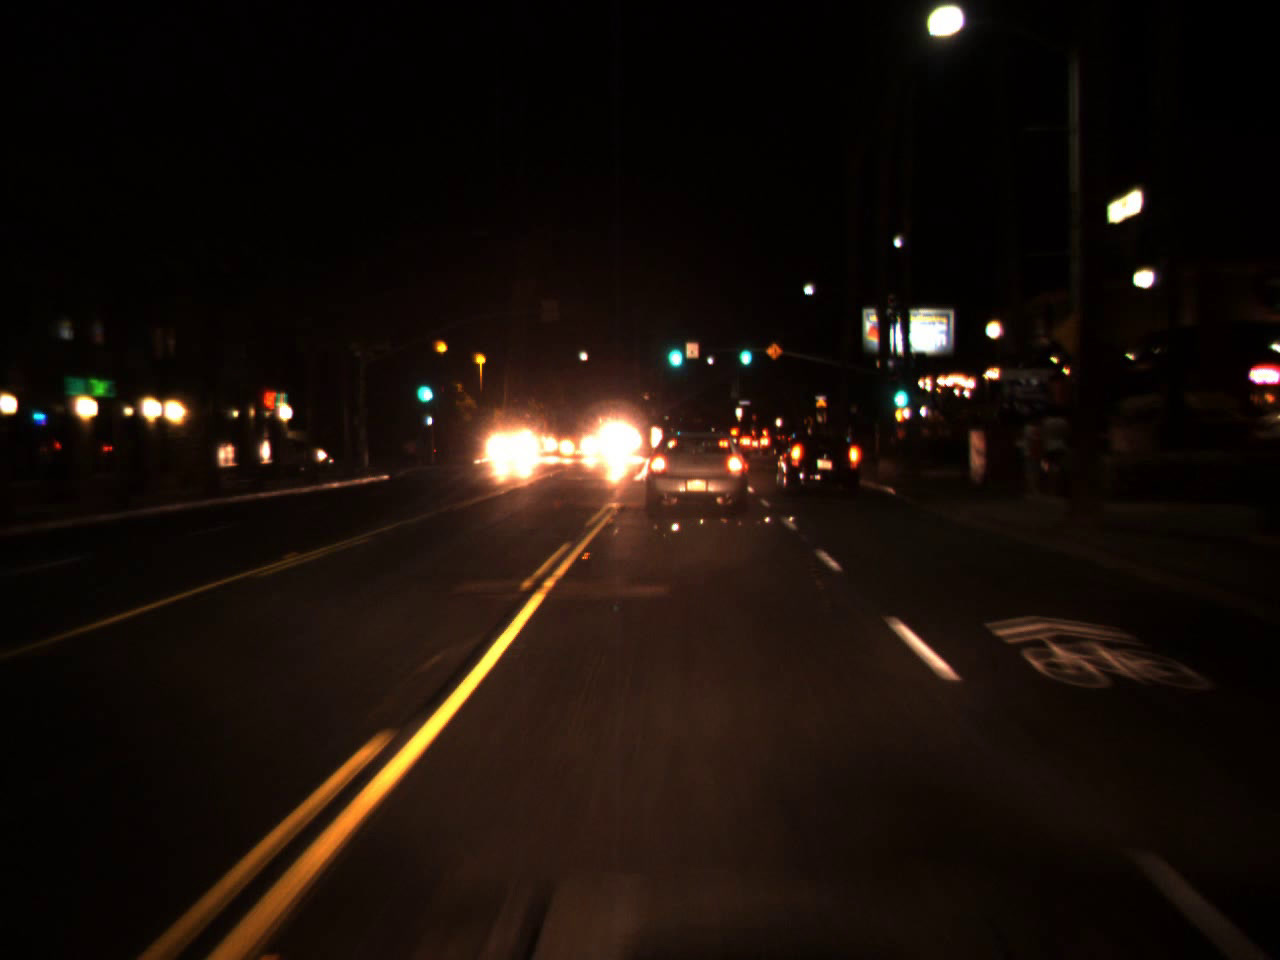go: (884, 367, 912, 412), (662, 326, 685, 374), (411, 366, 434, 408), (737, 337, 753, 367)
